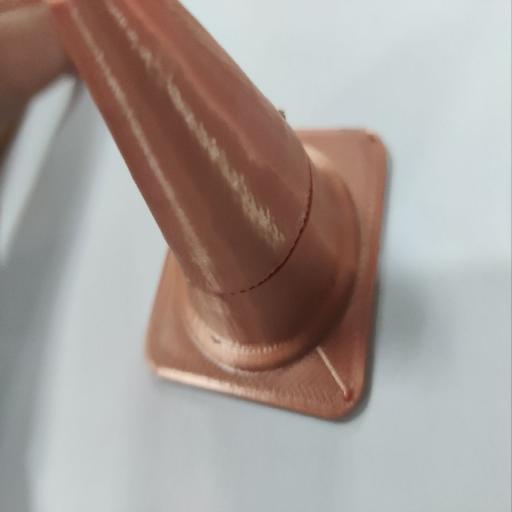cracks: (206, 187, 333, 313)
